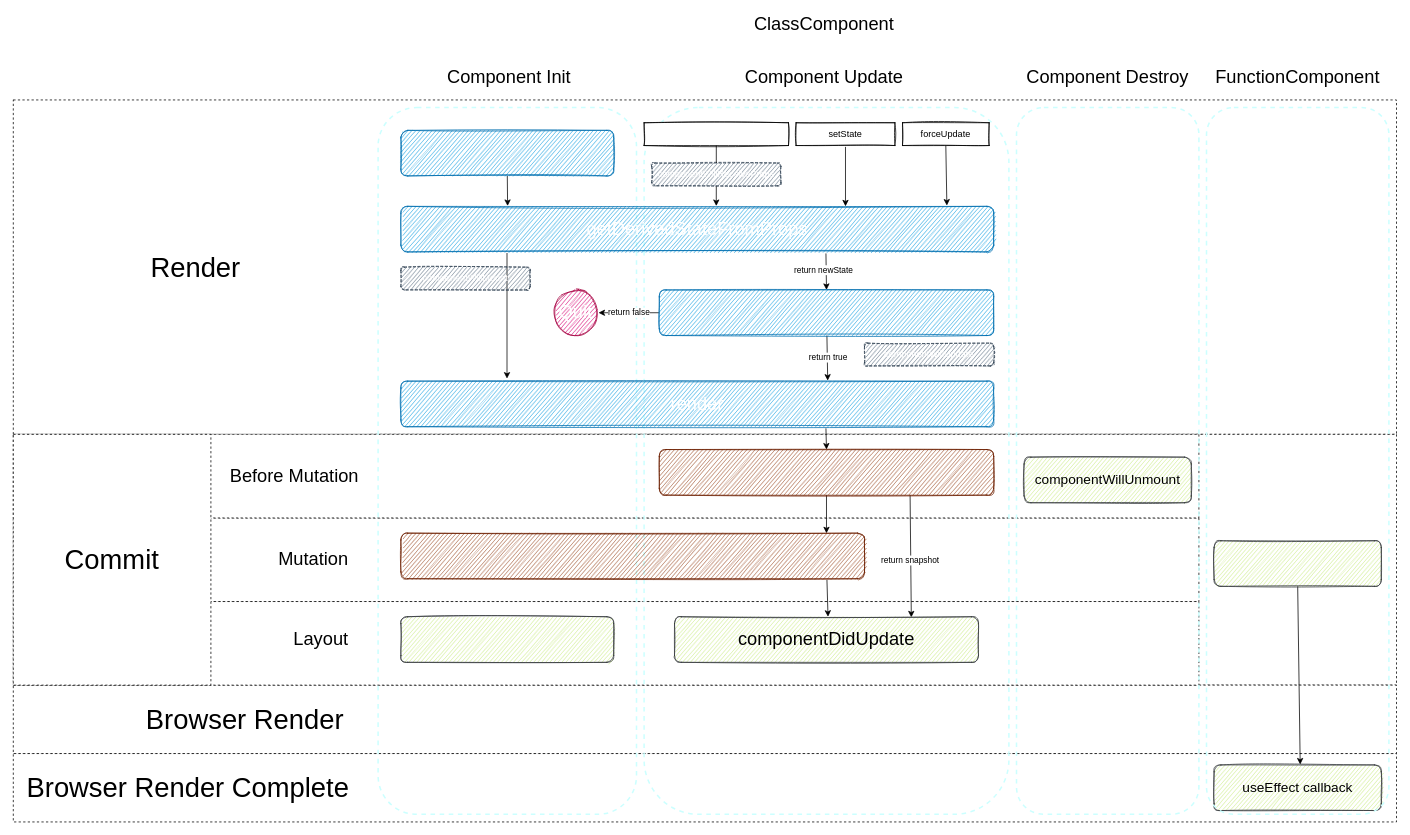
The diagram is 1410 pixels wide and 835 high, and some of its shapes have lost their labels. Each missing label, with the centre of its shape:
"componentDidMount" belongs at [507,639].
"constructor" belongs at [507,153].
"getSnapshotBeforeUpdate" belongs at [826,472].
"parent render or props change" belongs at [715,134].
"shouldComponentUpdate" belongs at [826,312].
"Update Dom" belongs at [632,555].
"useLayout callback" belongs at [1297,563].
